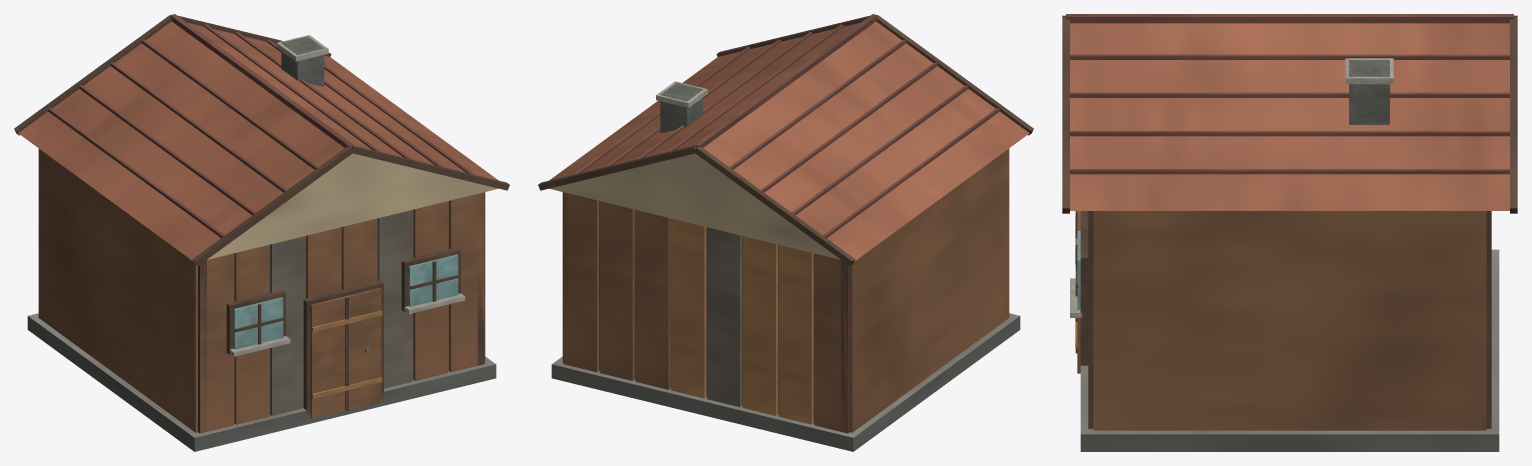
File: house_wood_small.fbx
The picture shows the model from 3 angles, left to right: view 1: azimuth 30°, elevation 25°; view 2: azimuth 150°, elevation 25°; view 3: azimuth 270°, elevation 25°; orthographic projection. The views are drawn at different scales.
Parts seen in each view (by area): view 1: house_wood_small; view 2: house_wood_small; view 3: house_wood_small.
Boxes of the visible parts, <box> form: house_wood_small: <box>14,14,509,451</box>; house_wood_small: <box>538,14,1033,451</box>; house_wood_small: <box>1062,14,1517,451</box>.
Bounding box in the file's own units: 600 × 500 × 600.
Materials: 2 (2 with a texture image).
